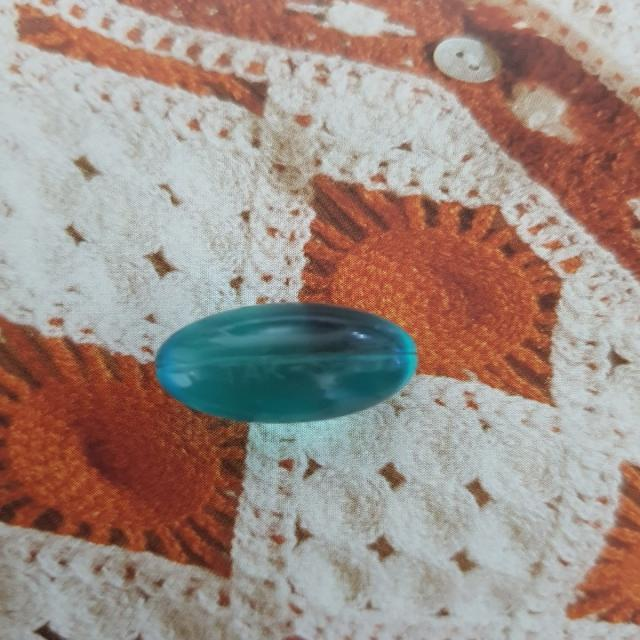pill: (150, 293, 424, 439)
